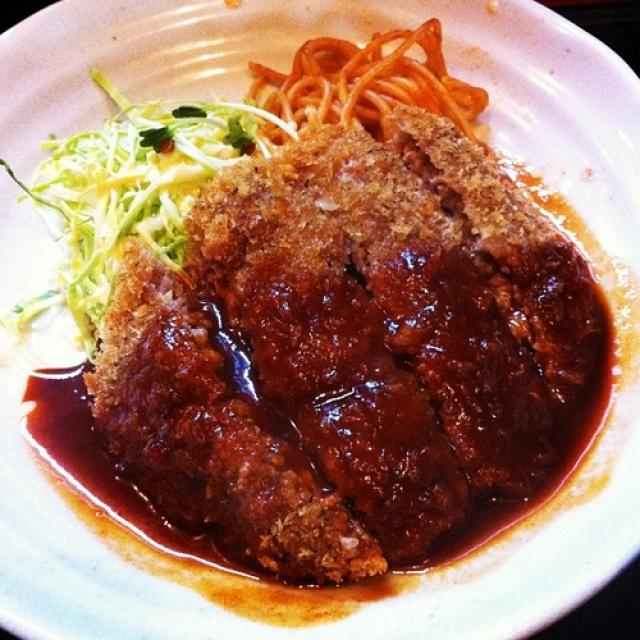炸货点心: (27, 40, 617, 604)
